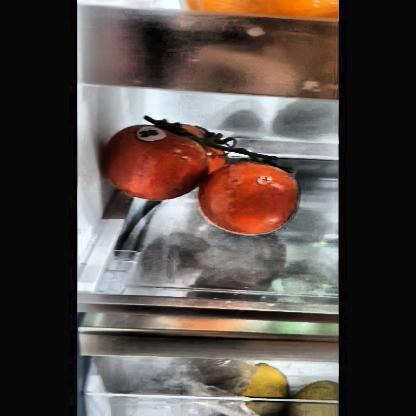tomato: (100, 122, 206, 198), (202, 160, 304, 234)
